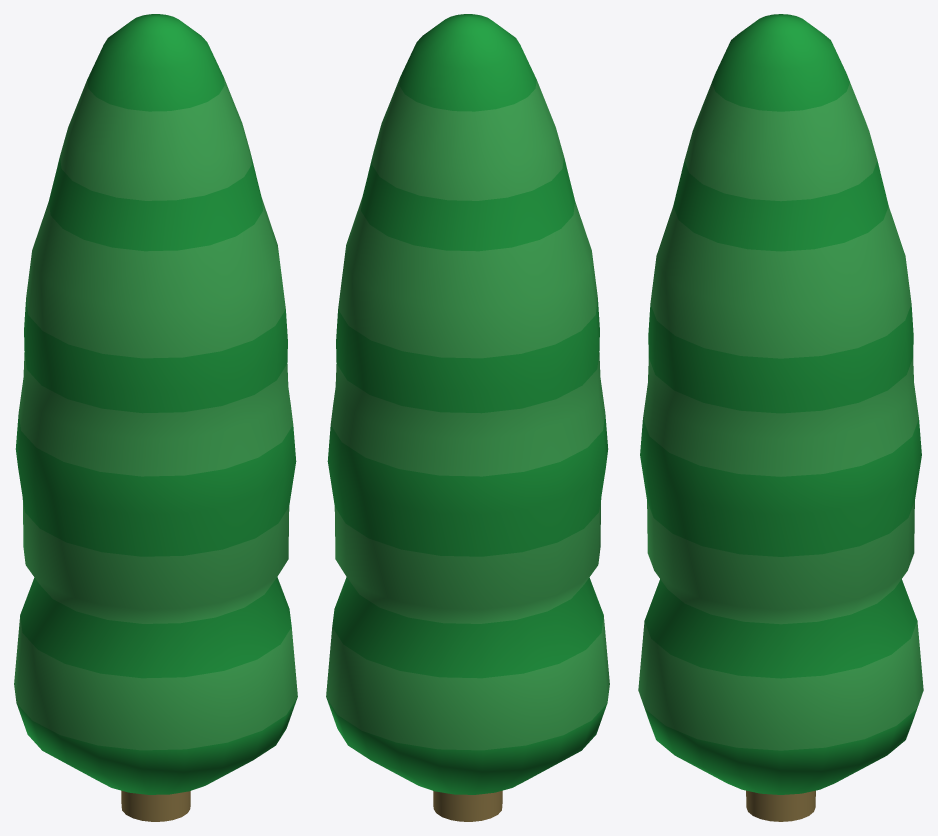
File: Tree3.fbx
The picture shows the model from 3 angles, left to right: view 1: azimuth 30°, elevation 25°; view 2: azimuth 150°, elevation 25°; view 3: azimuth 270°, elevation 25°; orthographic projection.
Parts seen in each view (by area): view 1: pSphere2; view 2: pSphere2; view 3: pSphere2.
Boxes of the visible parts, bbox=[...] form: pSphere2: bbox=[14, 14, 297, 821]; pSphere2: bbox=[326, 14, 609, 821]; pSphere2: bbox=[638, 14, 923, 821].
Size of the model in its own units: 17.75 by 54.18 by 17.75.
